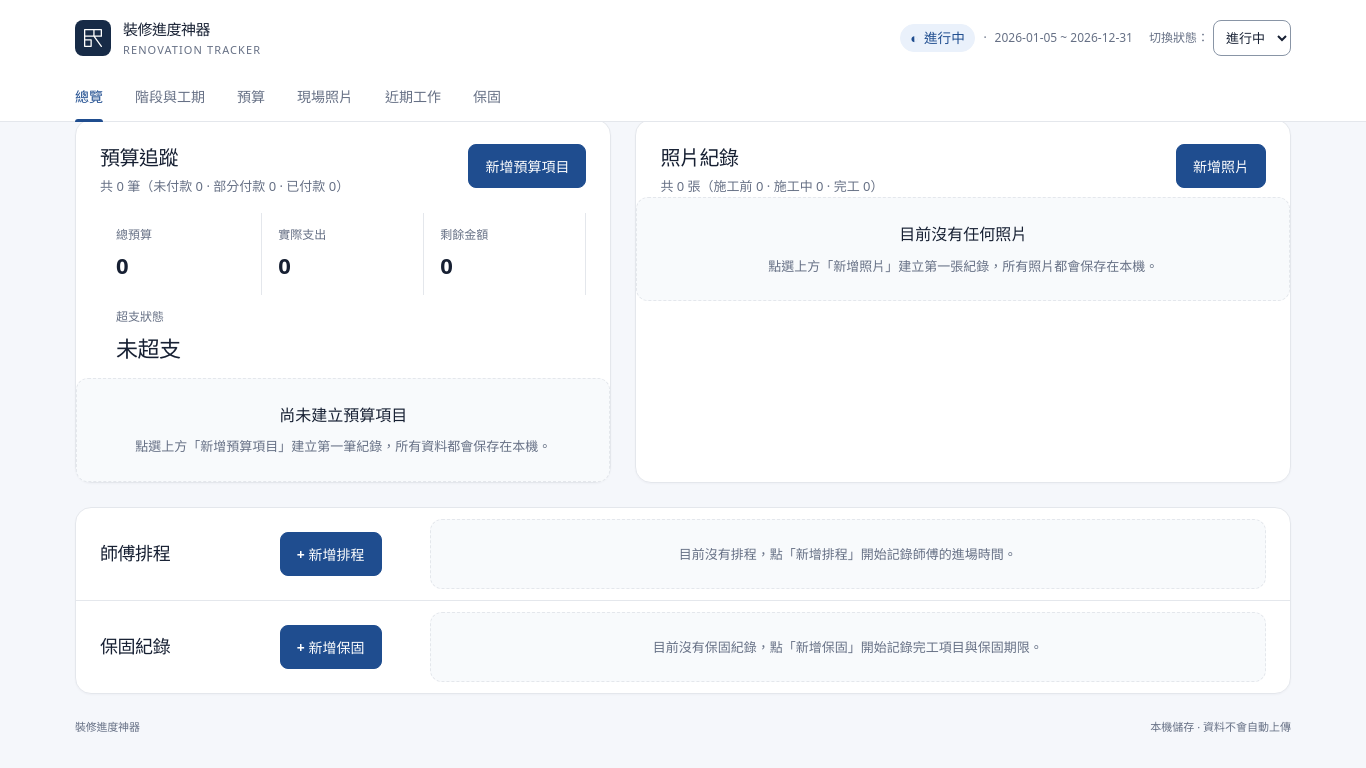
AC-FR006-02 — validation › rejects empty itemName with inline error and does not persist
The image size is (1366, 768).
(page scrolled)
Click the button with test id "warranty-add-cta": (331, 647) [280, 625, 382, 669]
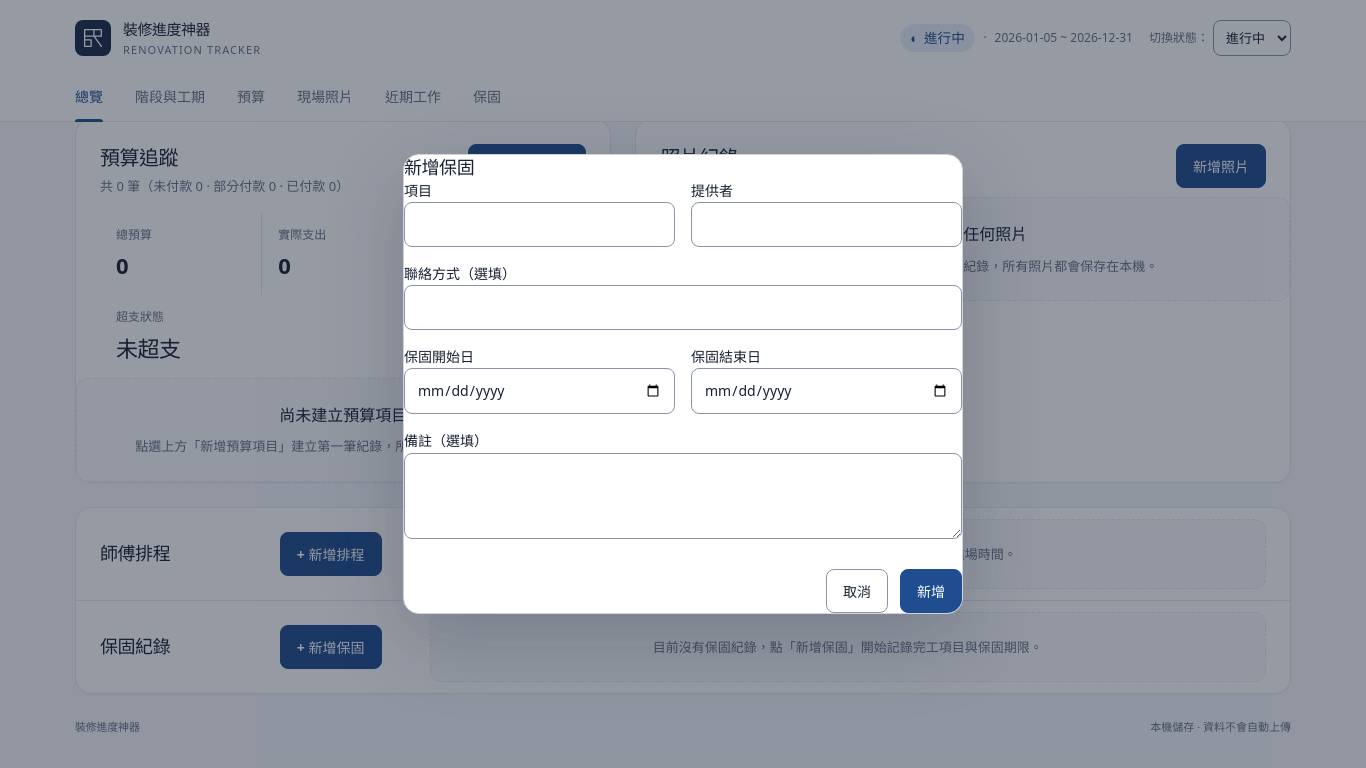
In the field with test id "warranty-provider-input": (826, 225) [691, 202, 962, 247], type "里歐建材"
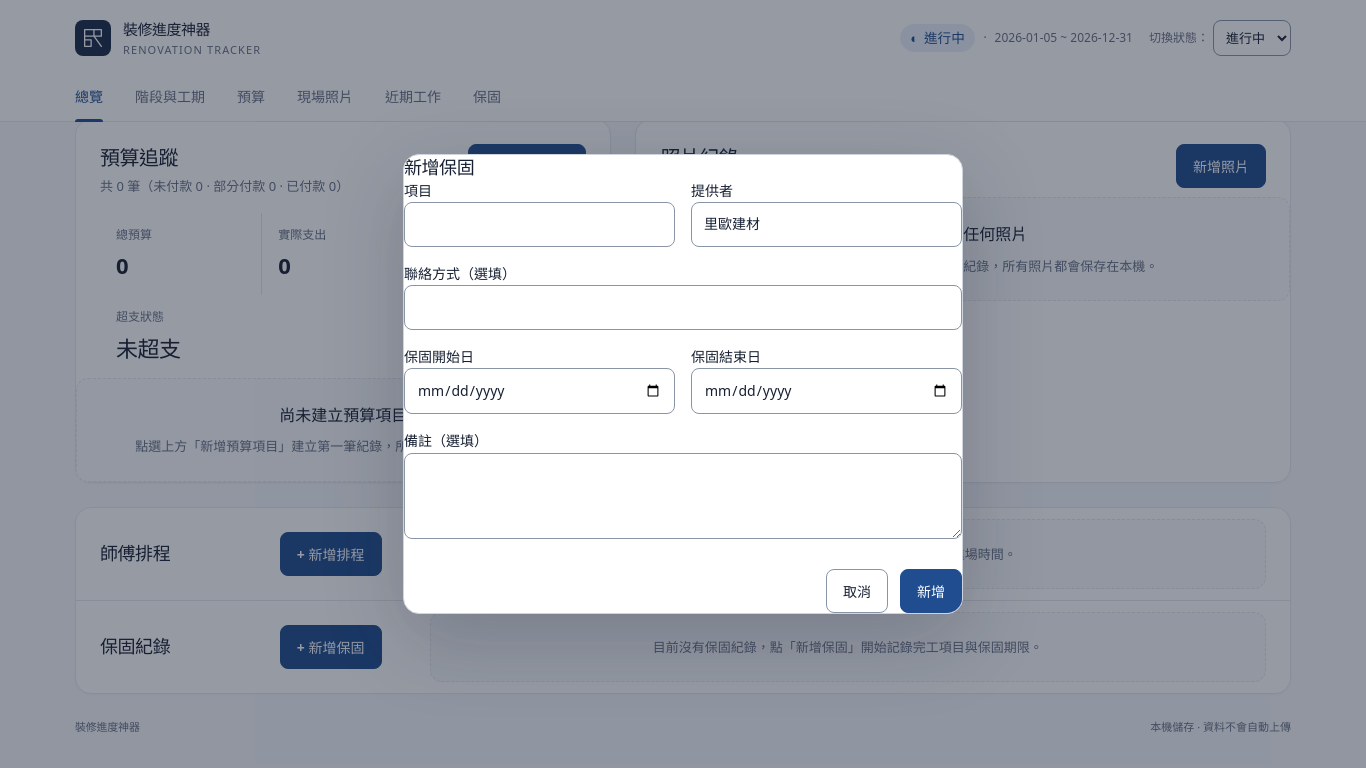
In the date field with test id "warranty-starts-input": (540, 391) [404, 368, 675, 414], type "2026-01-01"
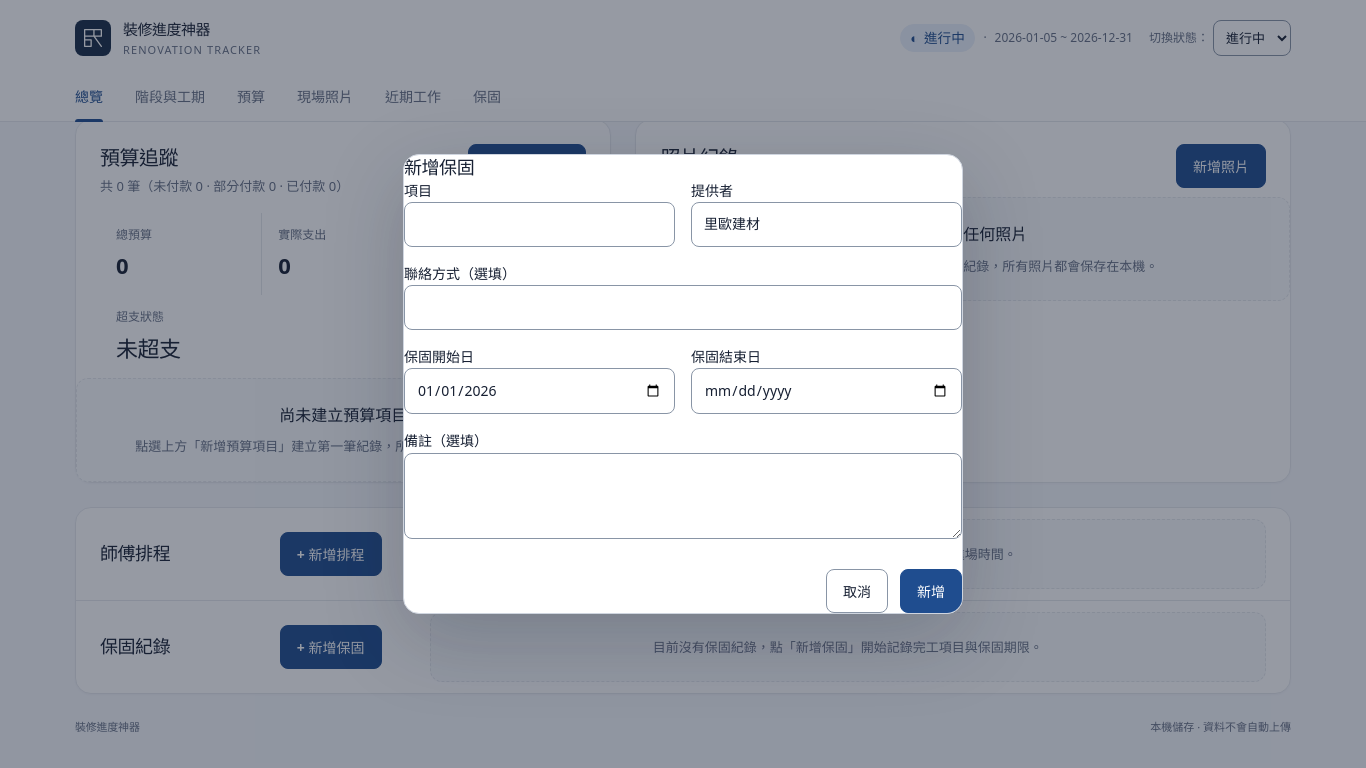
In the date field with test id "warranty-ends-input": (826, 391) [691, 368, 962, 414], type "2026-12-31"
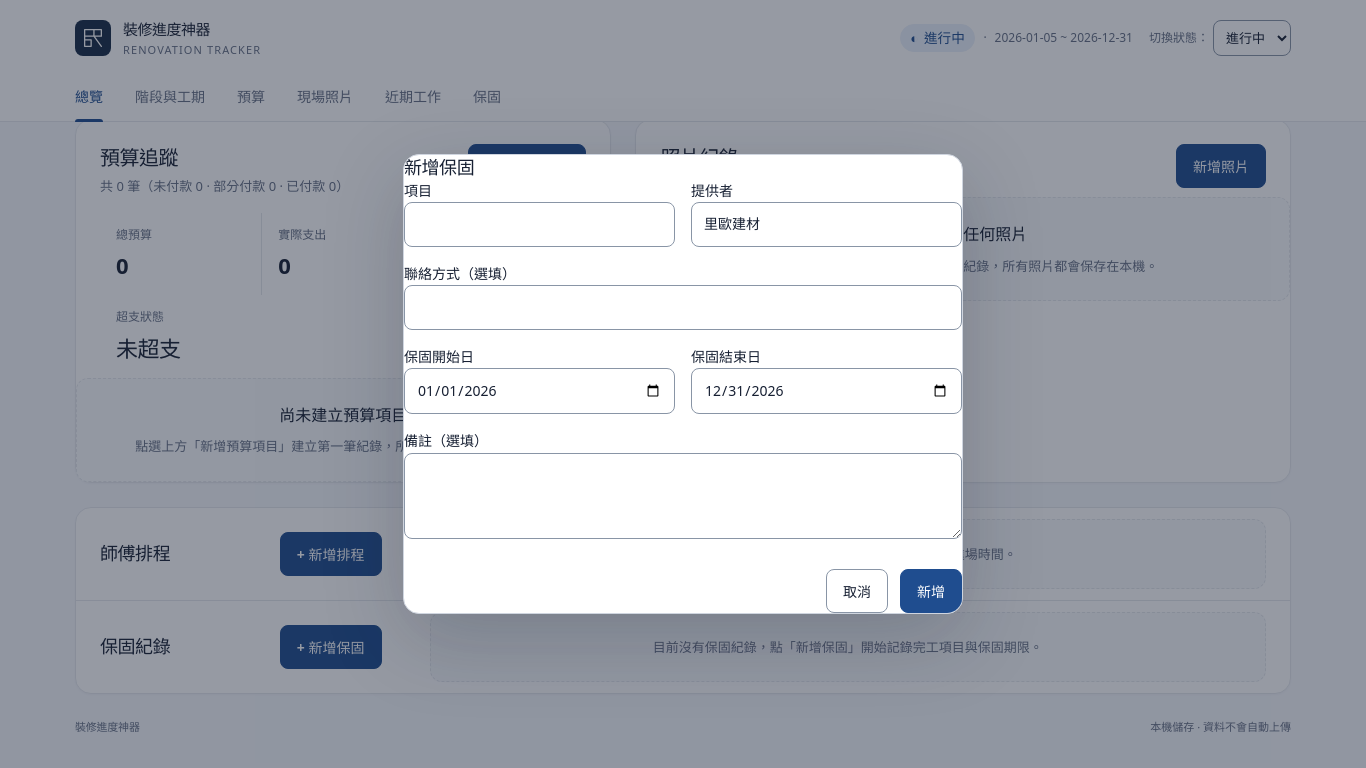
Click the button with test id "warranty-submit": (931, 591) [900, 569, 962, 613]
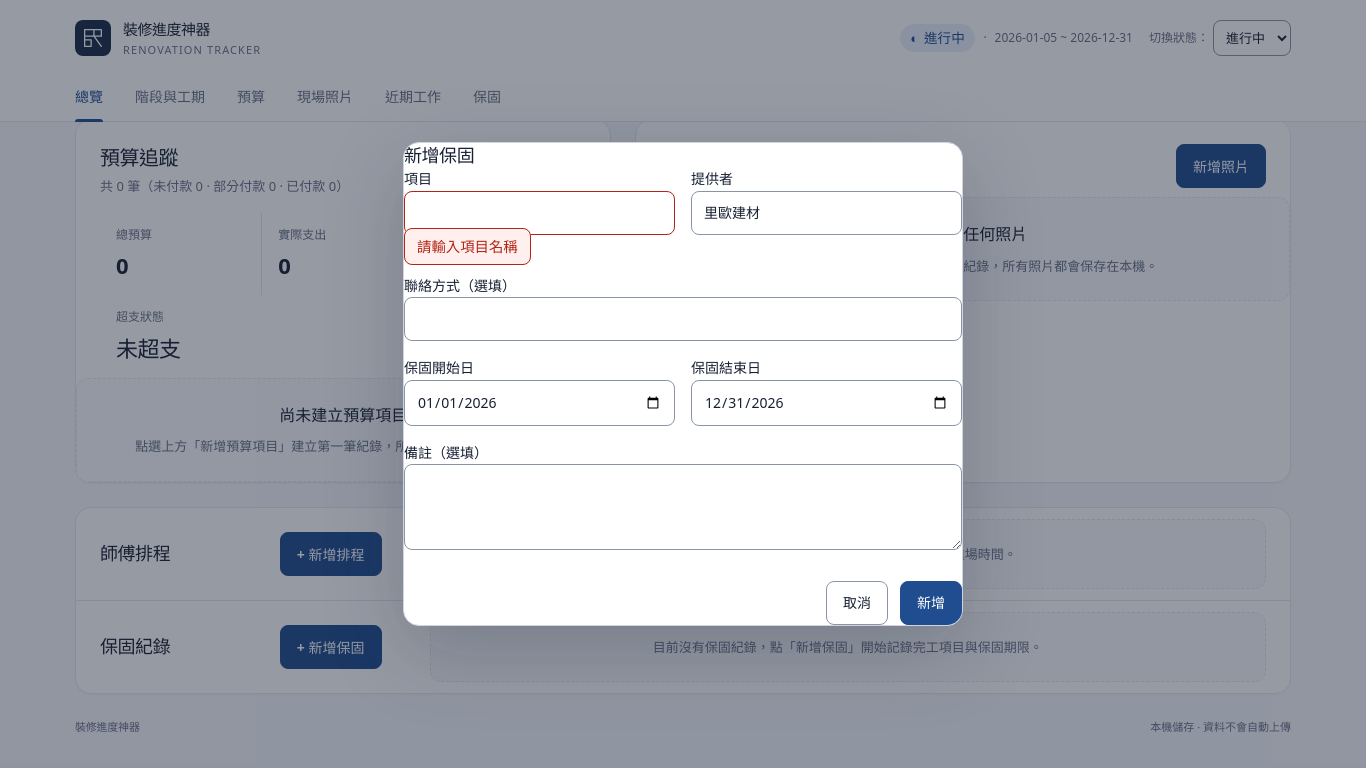
Now the text with test id "warranty-item-error" shows "項目", box [404, 228, 531, 265]
